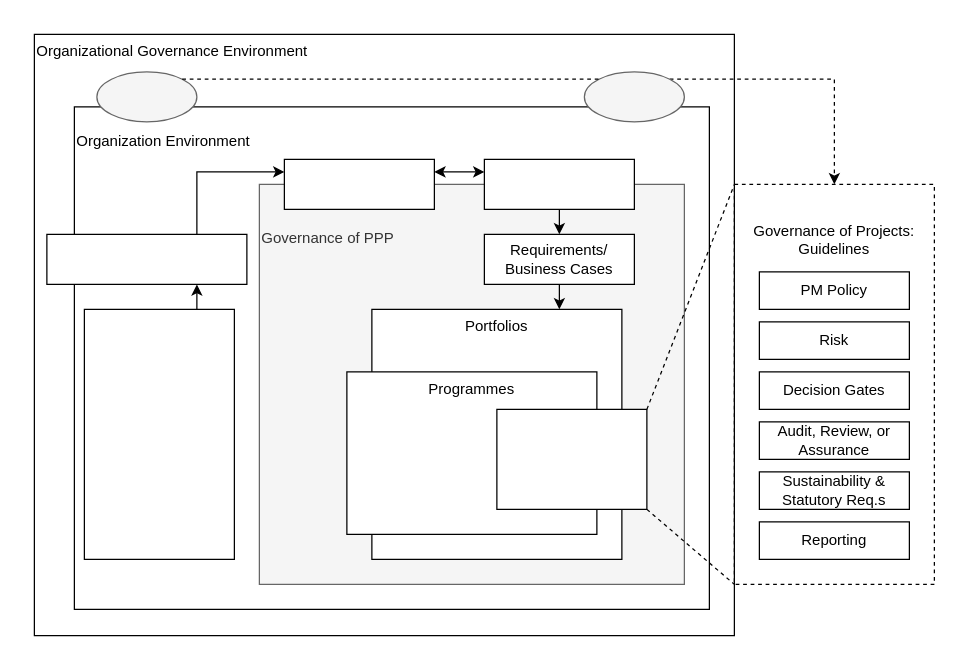
The diagram is 968 pixels wide and 668 high, and some of its shapes have lost their labels. Each missing label, with the centre of its shape:
Governing Body: the point at 633,96
Operations: the point at 158,433
Opportunities & Threats: the point at 558,183
Projects: the point at 571,458
Results: the point at 146,258
Stakeholders: the point at 146,96
Strategy: the point at 358,183
